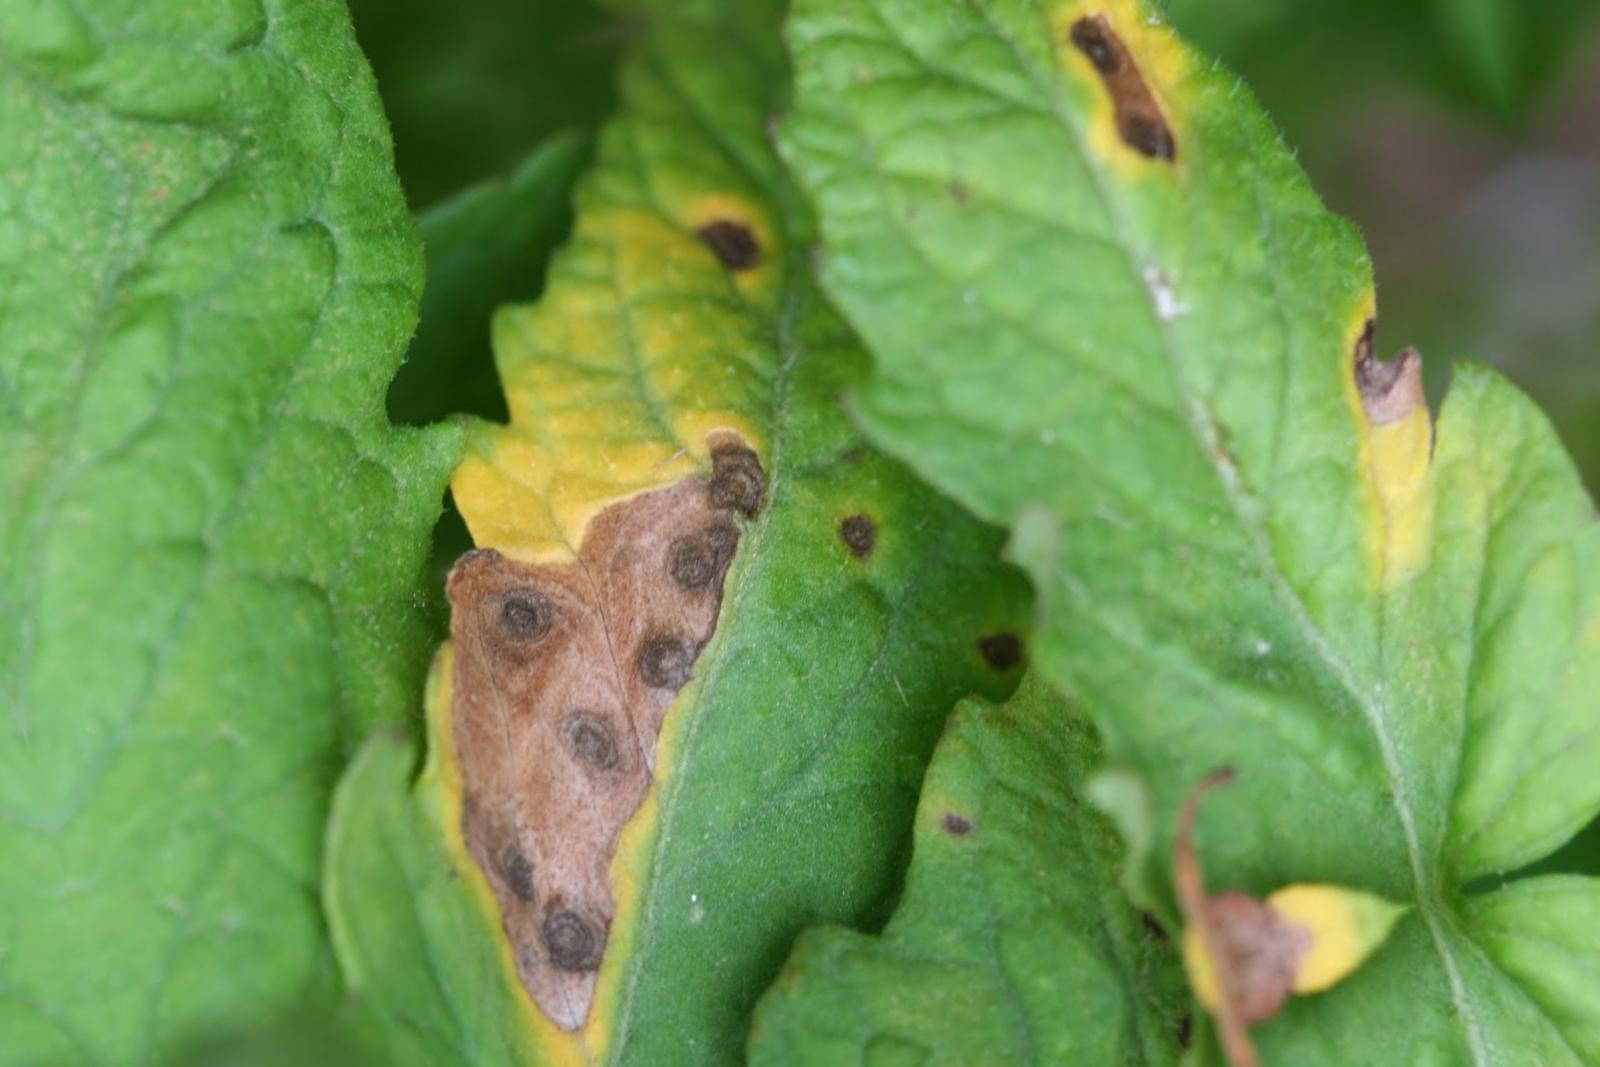Tomato leaf late blight: (86, 0, 1208, 1067), (698, 0, 1600, 1012)
